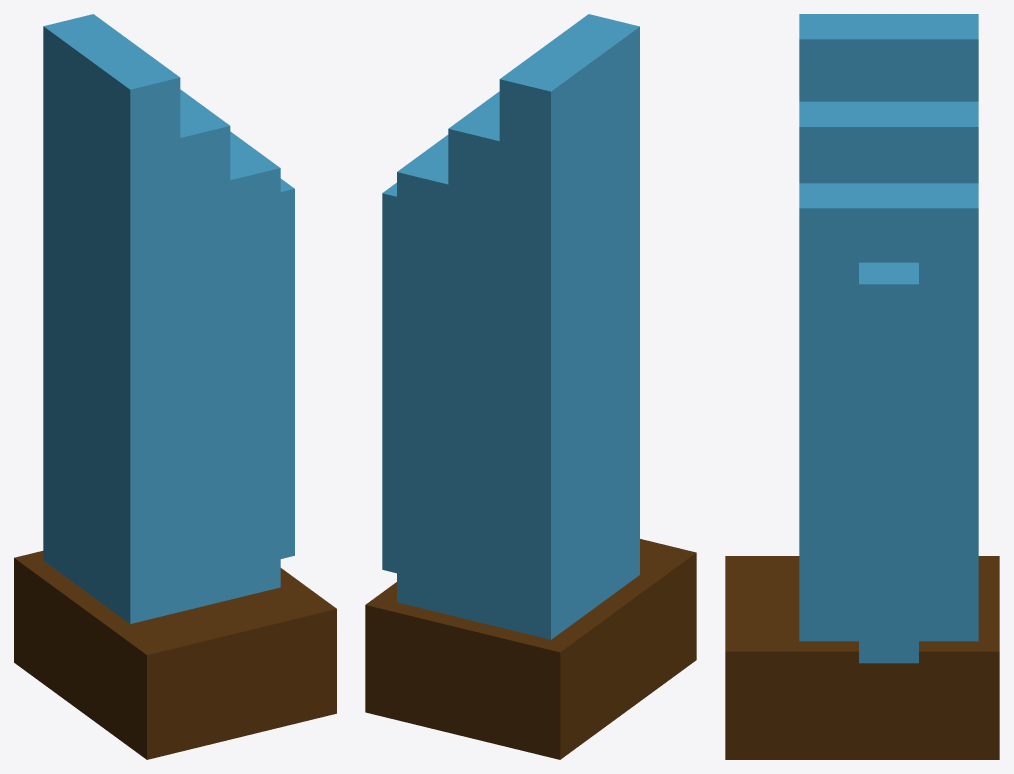
The model's file is left_leg.fbx.
The picture shows the model from 3 angles, left to right: view 1: azimuth 30°, elevation 25°; view 2: azimuth 150°, elevation 25°; view 3: azimuth 270°, elevation 25°; orthographic projection. The views are drawn at different scales.
Parts seen in each view (by area): view 1: left_leg; view 2: left_leg; view 3: left_leg.
Part boxes in pixels (x1,y1,x2,y2): left_leg: (14, 14, 336, 759); left_leg: (365, 14, 696, 759); left_leg: (725, 14, 999, 759).
Bounding box in the file's own units: 117 × 335 × 126.
